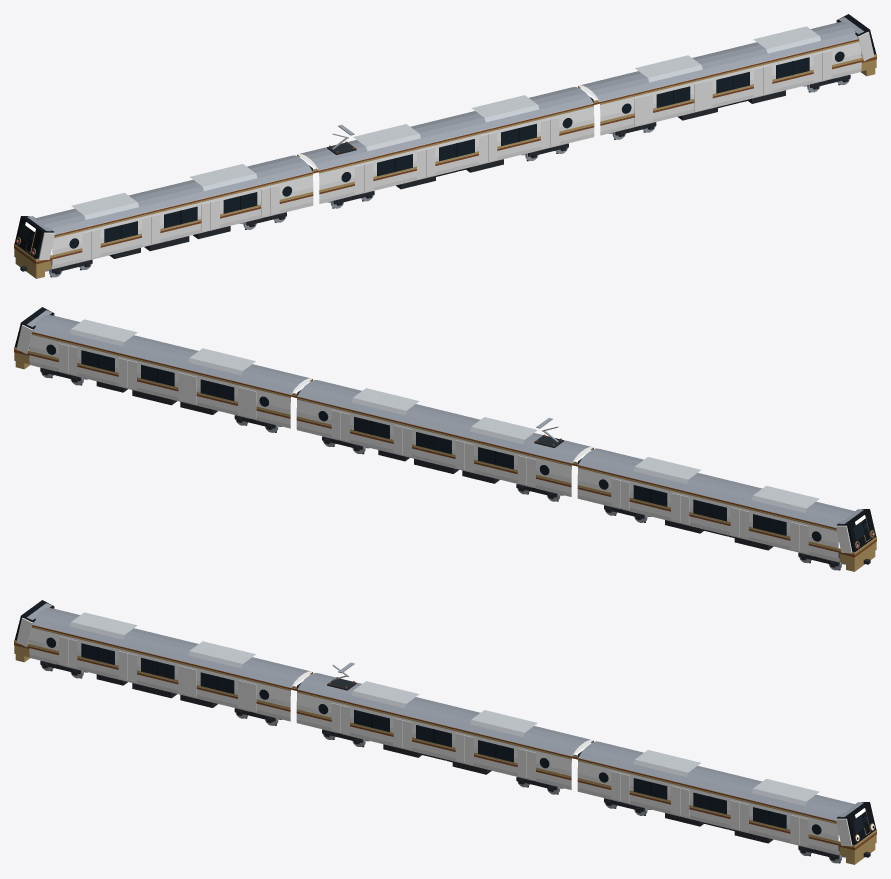
The model's file is tokyo-metro-17000-consist.glb.
3 renders of one model, top to bottom at view 1: azimuth 30°, elevation 25°; view 2: azimuth 150°, elevation 25°; view 3: azimuth 330°, elevation 25°, orthographic.
Visible parts, largest first — view 1: Body_Shell (×3), Roof_Crown (×3), Roof_HVAC (×6), Car_Canonical (×3), Doors_And_Windows (×3), Lead_Cab_Aero_Front (×2), Aero_Sloped_Black_Dome, Underfloor_Equipment; view 2: Body_Shell (×3), Roof_Crown (×3), Roof_HVAC (×6), Car_Canonical (×3), Doors_And_Windows (×3), Lead_Cab_Aero_Front (×2), Underfloor_Equipment (×2), Aero_Sloped_Black_Dome; view 3: Body_Shell (×3), Roof_Crown (×3), Roof_HVAC (×6), Car_Canonical (×3), Doors_And_Windows (×3), Lead_Cab_Aero_Front (×2), Aero_Sloped_Black_Dome, Underfloor_Equipment.
Part boxes in pixels (bbox=[...]): Body_Shell (×3): bbox=[52, 38, 861, 269]; Roof_Crown (×3): bbox=[36, 22, 858, 234]; Roof_HVAC (×6): bbox=[71, 26, 820, 219]; Car_Canonical (×3): bbox=[52, 39, 861, 259]; Doors_And_Windows (×3): bbox=[69, 51, 844, 248]; Lead_Cab_Aero_Front (×2): bbox=[14, 17, 876, 278]; Aero_Sloped_Black_Dome: bbox=[14, 216, 53, 258]; Underfloor_Equipment: bbox=[109, 226, 230, 258]; Body_Shell (×3): bbox=[29, 331, 838, 562]; Roof_Crown (×3): bbox=[32, 315, 854, 527]; Roof_HVAC (×6): bbox=[70, 319, 819, 512]; Car_Canonical (×3): bbox=[29, 332, 838, 552]; Doors_And_Windows (×3): bbox=[46, 344, 821, 541]; Lead_Cab_Aero_Front (×2): bbox=[14, 310, 876, 571]; Underfloor_Equipment (×2): bbox=[96, 381, 499, 483]; Aero_Sloped_Black_Dome: bbox=[837, 509, 876, 551]; Body_Shell (×3): bbox=[29, 624, 838, 855]; Roof_Crown (×3): bbox=[32, 608, 854, 820]; Roof_HVAC (×6): bbox=[70, 612, 819, 805]; Car_Canonical (×3): bbox=[29, 625, 838, 845]; Doors_And_Windows (×3): bbox=[46, 637, 821, 834]; Lead_Cab_Aero_Front (×2): bbox=[14, 603, 876, 864]; Aero_Sloped_Black_Dome: bbox=[837, 802, 876, 844]; Underfloor_Equipment: bbox=[96, 674, 217, 707].
Size of the model in its own units: 60.17 by 5.1 by 2.88.
